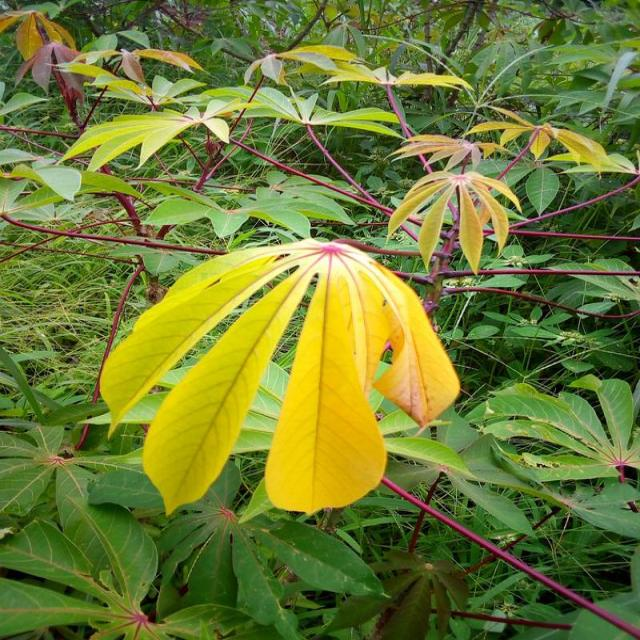cassava leaf: (98, 236, 461, 518)
